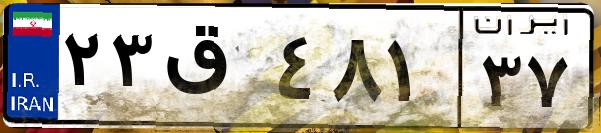1: (385, 28, 445, 110)
2: (57, 26, 110, 100)
3: (475, 38, 525, 113), (110, 28, 158, 98)
4: (270, 28, 330, 110)
7: (525, 38, 570, 115)
8: (330, 28, 385, 110)
ق: (158, 20, 270, 120)
